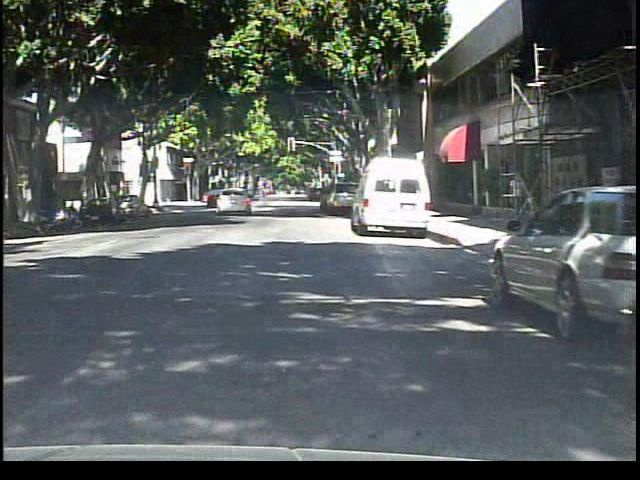person: (504, 165, 530, 231), (253, 178, 273, 212)
